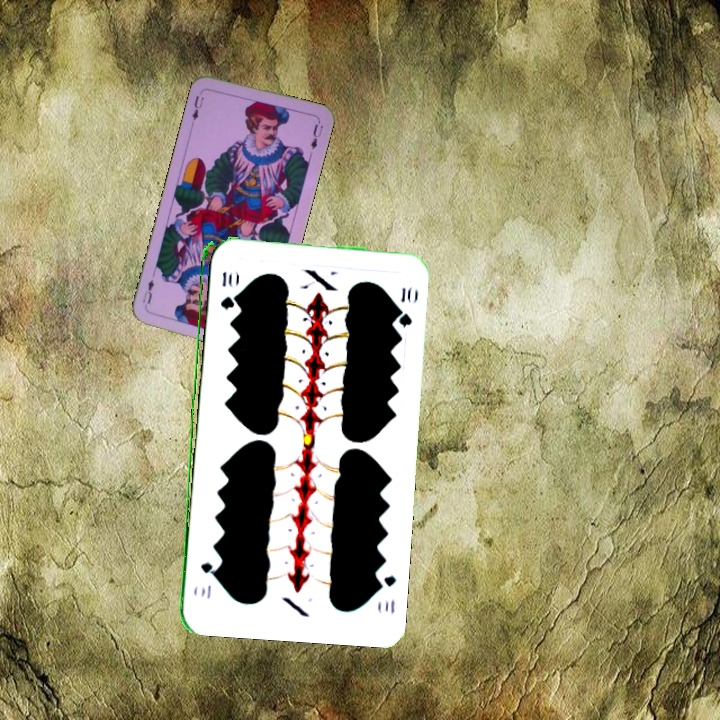EU: (188, 87, 206, 127)
G10: (372, 572, 399, 616), (216, 268, 235, 312)
